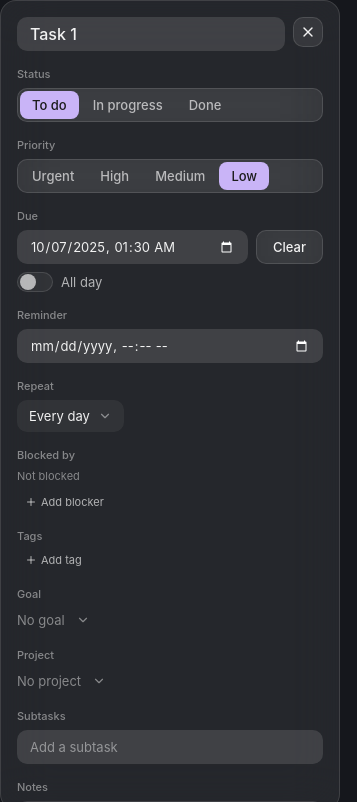
it: TaskDetailPanel: repeat › lists the five options and marks the current one
Expected: the field named "Title" is shown, [17,17,285,51]
Click the button with aria-label "Repeat: Every day" at (70, 416), box [17,400,124,432]
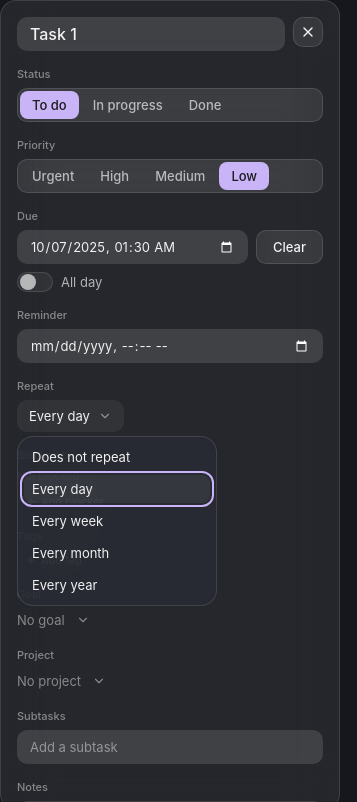
Expected: the menu item "Every day" is checked, [24,475,210,503]
